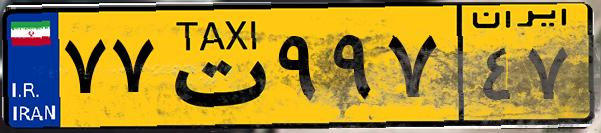4: (475, 38, 525, 113)
7: (385, 28, 445, 110), (57, 26, 110, 100), (525, 38, 570, 115), (110, 28, 158, 98)
9: (270, 28, 330, 110), (330, 28, 385, 110)
ت: (158, 12, 270, 120)
